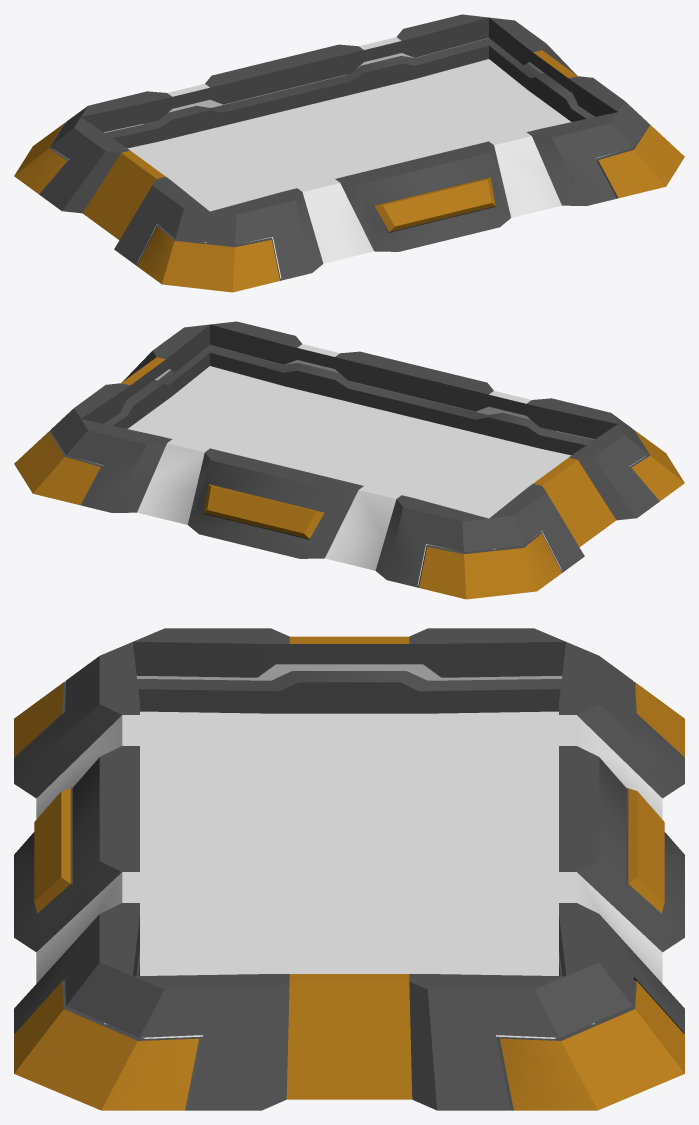
File: batery reciver1.fbx
The picture shows the model from 3 angles, top to bottom: view 1: azimuth 30°, elevation 25°; view 2: azimuth 150°, elevation 25°; view 3: azimuth 270°, elevation 25°; orthographic projection. The views are drawn at different scales.
Parts seen in each view (by area): view 1: Cube; view 2: Cube; view 3: Cube.
Boxes of the visible parts, <box> form: Cube: <box>14,14,684,292</box>; Cube: <box>14,321,684,599</box>; Cube: <box>14,628,684,1110</box>.
Size of the model in its own units: 0.7993 by 0.0759 by 0.5288.
